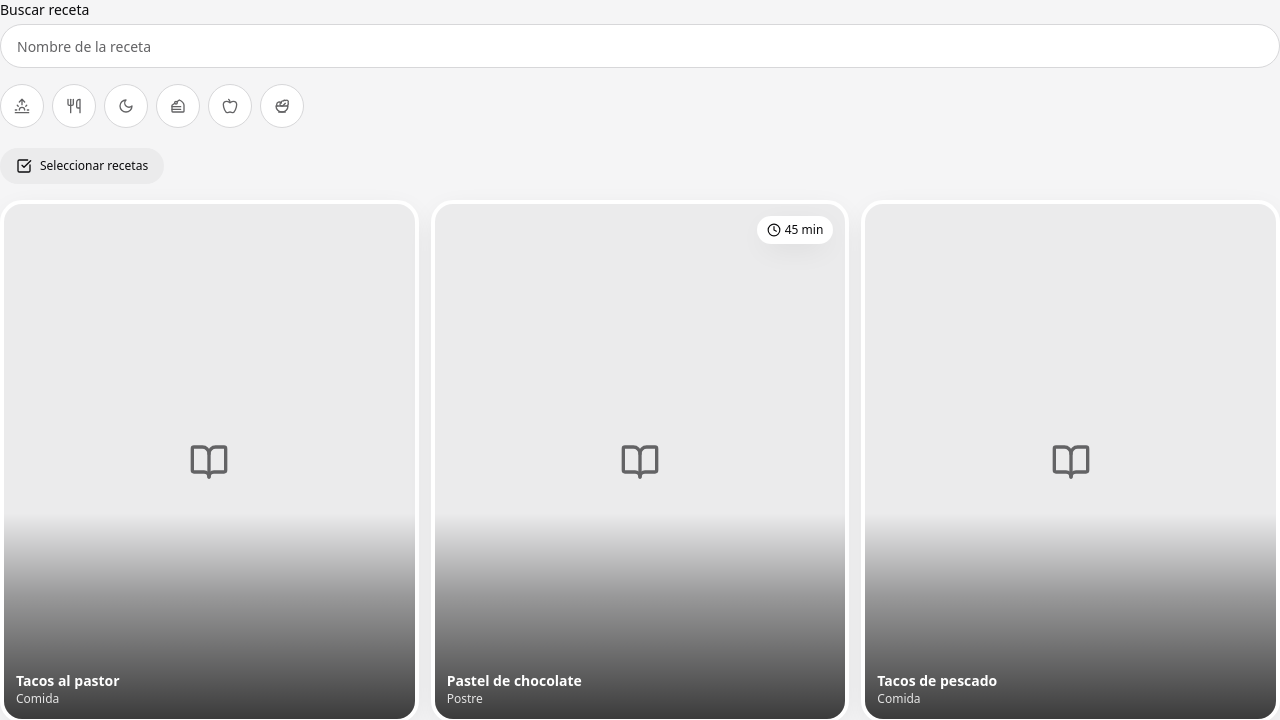
Test: RecipeList — smoke render (recipes-module) › typing an ingredient name (not in the title) also narrows the list
In the field labelled "Buscar receta": (640, 46) top-left (0, 24), bottom-right (1279, 68), type "piña"
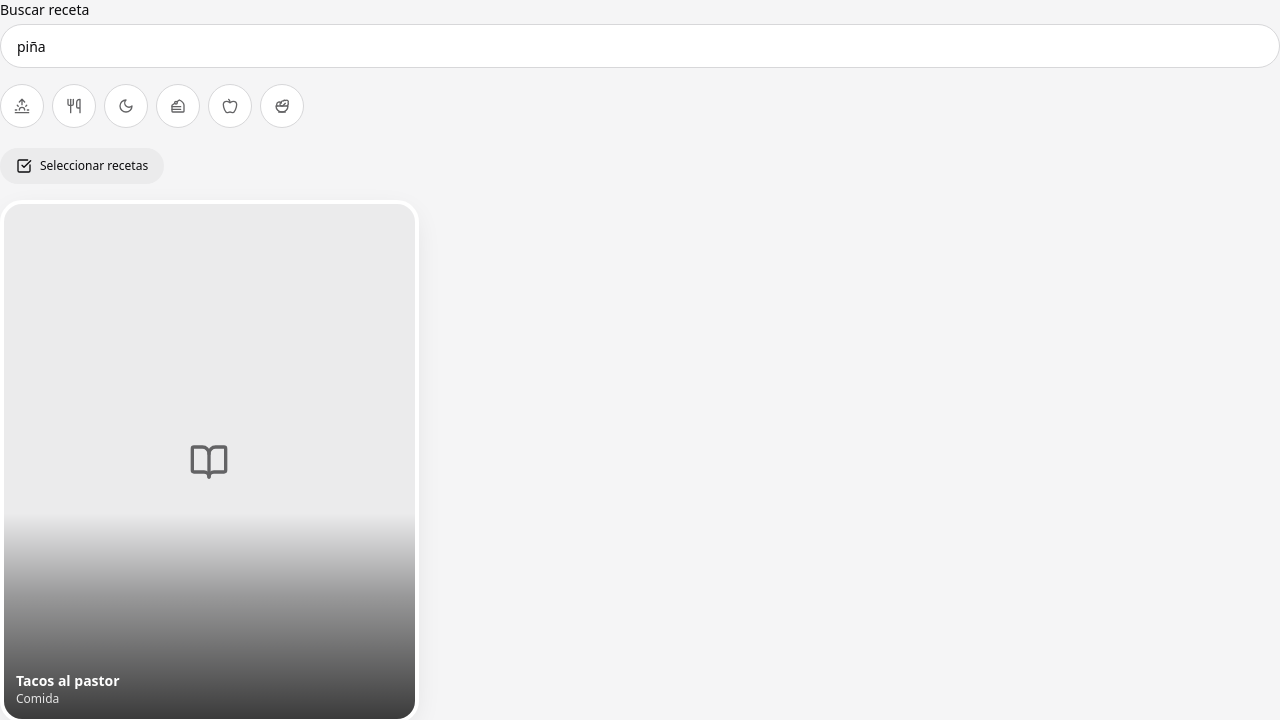
Expected: the text "Tacos al pastor" is shown, top-left (16, 671), bottom-right (120, 690)
Now the link "Pastel de chocolate" is gone
Now the link "Tacos de pescado" is gone
